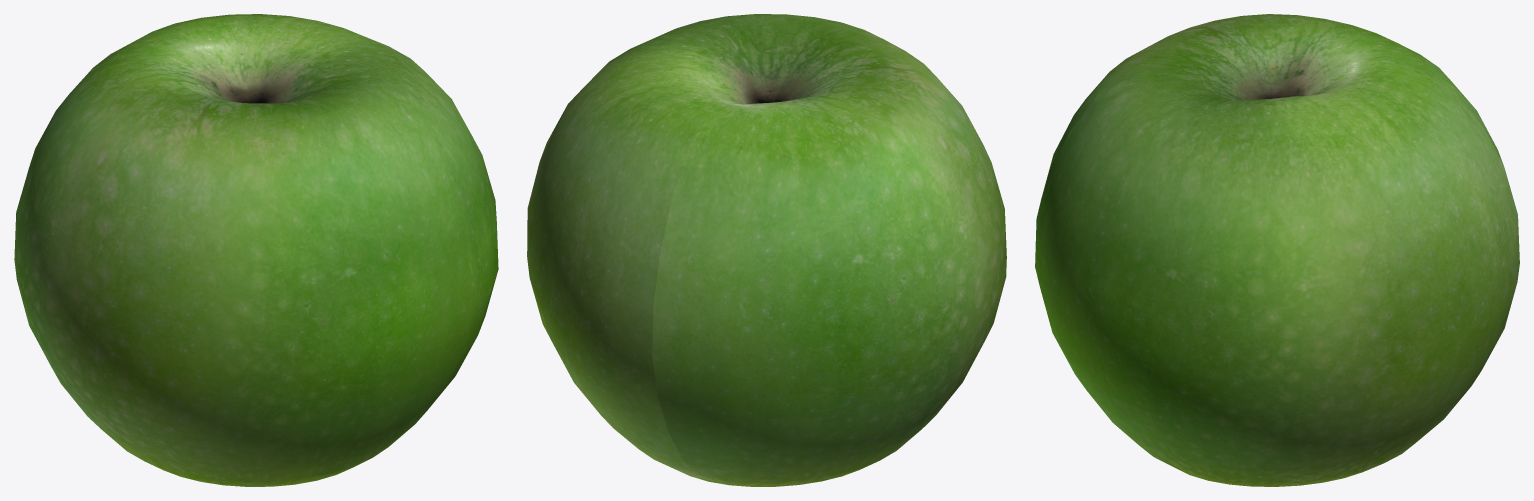
The model's file is ManzanaA.glb.
The picture shows the model from 3 angles, left to right: view 1: azimuth 30°, elevation 25°; view 2: azimuth 150°, elevation 25°; view 3: azimuth 270°, elevation 25°; orthographic projection.
Parts seen in each view (by area): view 1: Apple_R, Apple_L; view 2: Apple_R, Apple_L; view 3: Apple_L, Apple_R.
Part boxes in pixels (bbox=[...]): Apple_R: bbox=[14, 23, 377, 486]; Apple_L: bbox=[175, 14, 498, 480]; Apple_R: bbox=[652, 22, 1006, 486]; Apple_L: bbox=[527, 14, 839, 481]; Apple_L: bbox=[1035, 69, 1519, 486]; Apple_R: bbox=[1037, 14, 1503, 213].
Size of the model in its own units: 1.74 by 1.48 by 1.72.
1 material, 1 textured.
